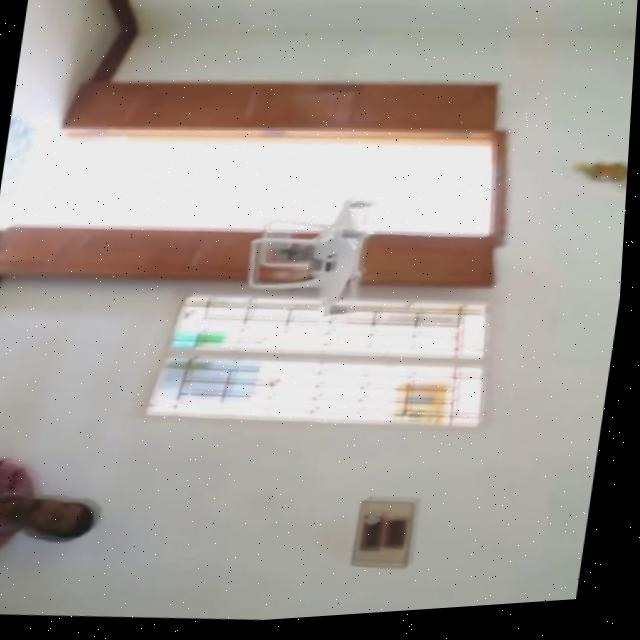drones: (242, 182, 401, 337)
